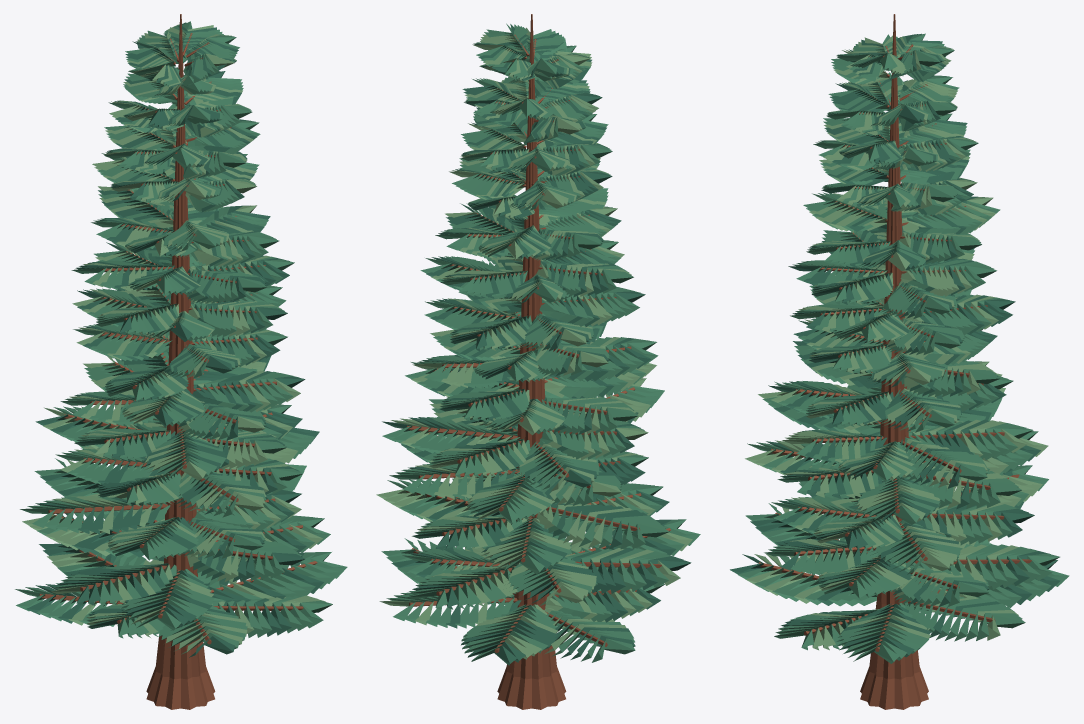
File: redwood.glb
The picture shows the model from 3 angles, left to right: view 1: azimuth 30°, elevation 25°; view 2: azimuth 150°, elevation 25°; view 3: azimuth 270°, elevation 25°; orthographic projection.
Parts seen in each view (by area): view 1: Redwood fern green, Redwood shadow needles, Redwood new growth, Sequoia reddish bark; view 2: Redwood fern green, Redwood new growth, Redwood shadow needles, Sequoia reddish bark; view 3: Redwood fern green, Redwood new growth, Redwood shadow needles, Sequoia reddish bark.
Boxes of the visible parts, x1,y1,x2,y2 form: Redwood fern green: (15, 21, 347, 649); Redwood shadow needles: (26, 22, 323, 657); Redwood new growth: (22, 24, 325, 654); Sequoia reddish bark: (39, 14, 317, 709); Redwood fern green: (381, 23, 700, 662); Redwood new growth: (376, 27, 692, 659); Redwood shadow needles: (382, 24, 691, 665); Sequoia reddish bark: (406, 14, 670, 709); Redwood fern green: (737, 33, 1069, 663); Redwood new growth: (745, 35, 1048, 650); Redwood shadow needles: (730, 33, 1060, 657); Sequoia reddish bark: (758, 14, 1031, 709).
Bounding box in the file's own units: 7.33 × 16.2 × 7.34.
